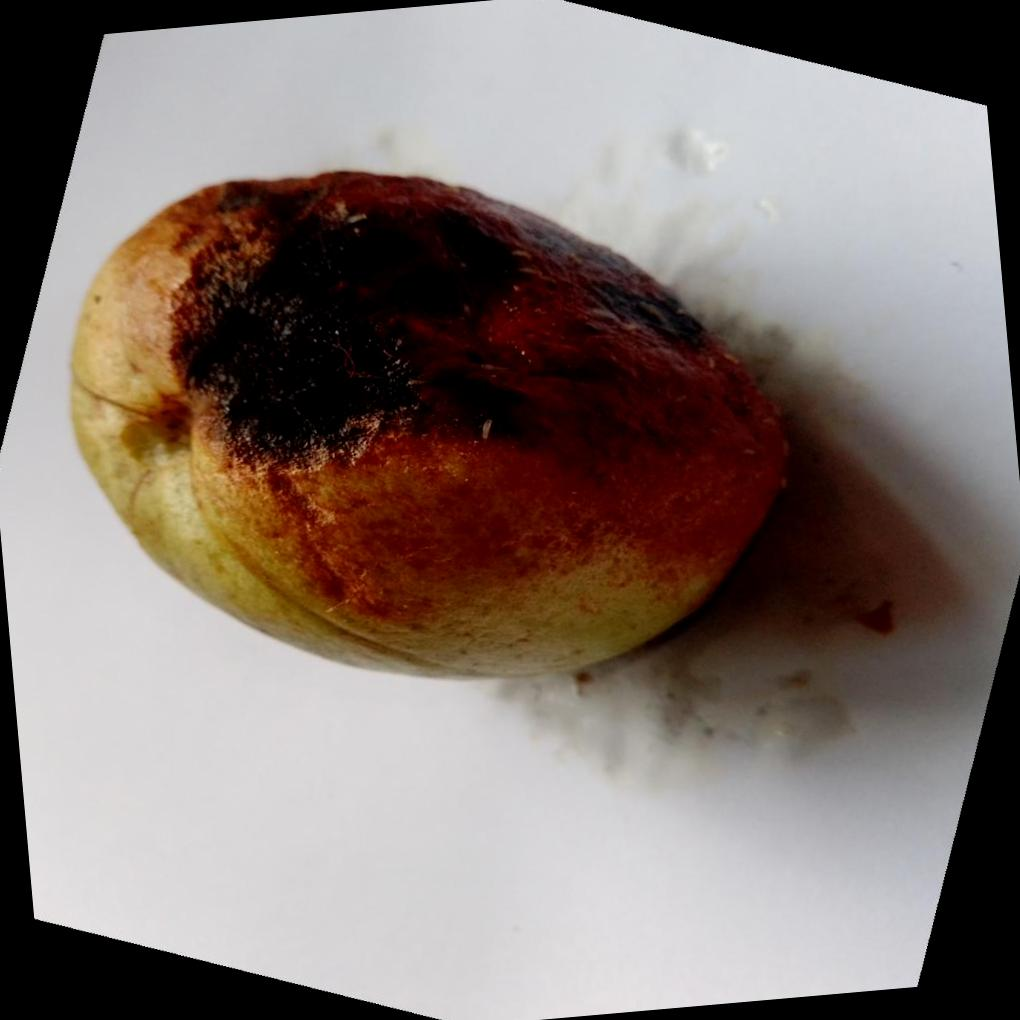FreshOrange: (66, 171, 792, 683)
